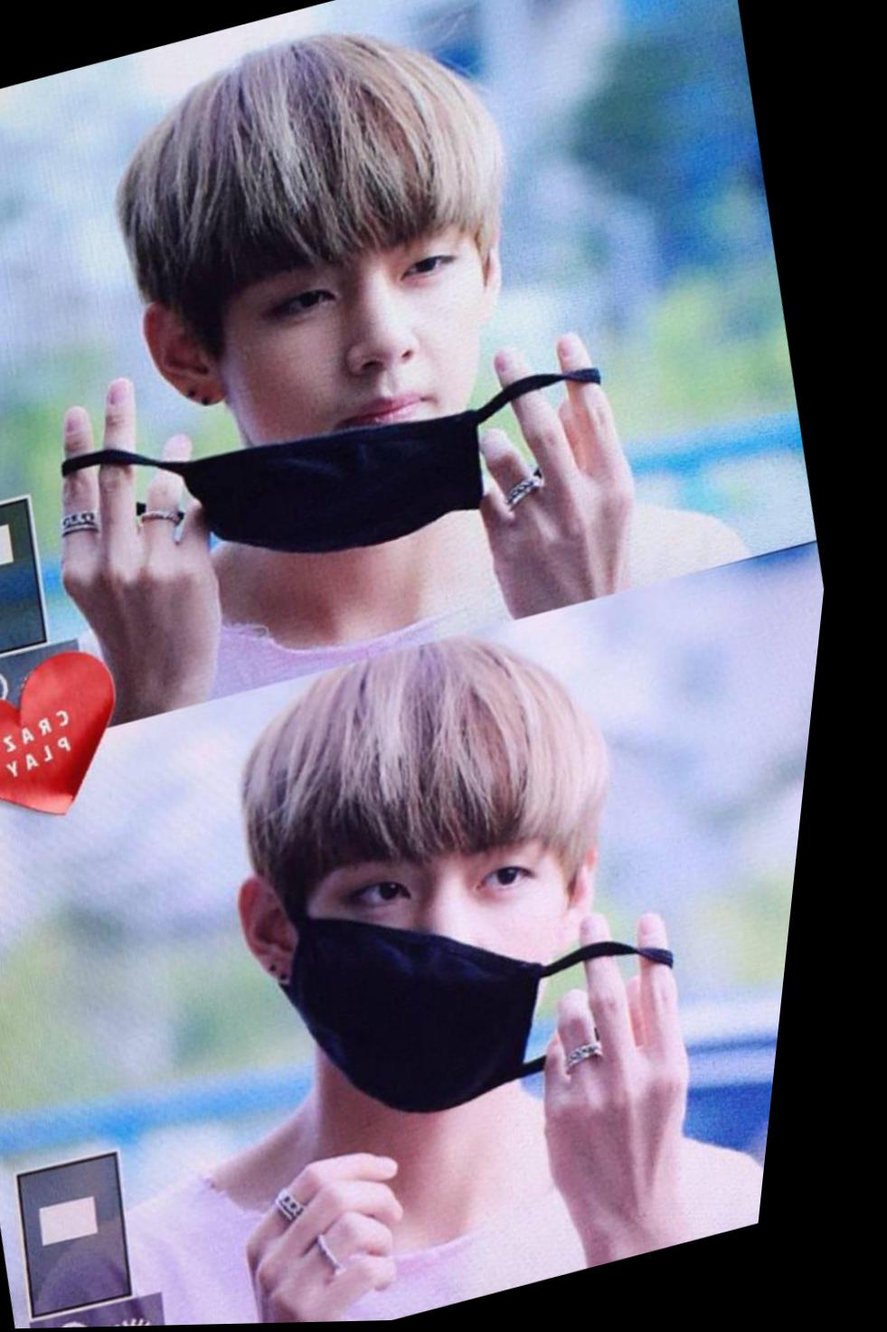NONE: (185, 216, 558, 554)
WRONG: (278, 781, 640, 1115)
